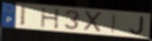3: (63, 9, 81, 31)
H: (40, 7, 61, 30)
I: (19, 5, 28, 28), (111, 13, 118, 35)
J: (129, 15, 146, 36)
X: (84, 10, 105, 34)
